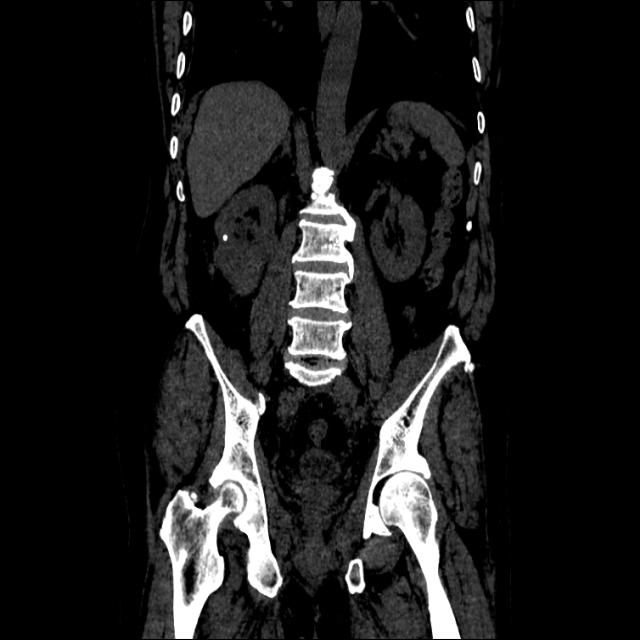kidneystone: (222, 234, 228, 241)
